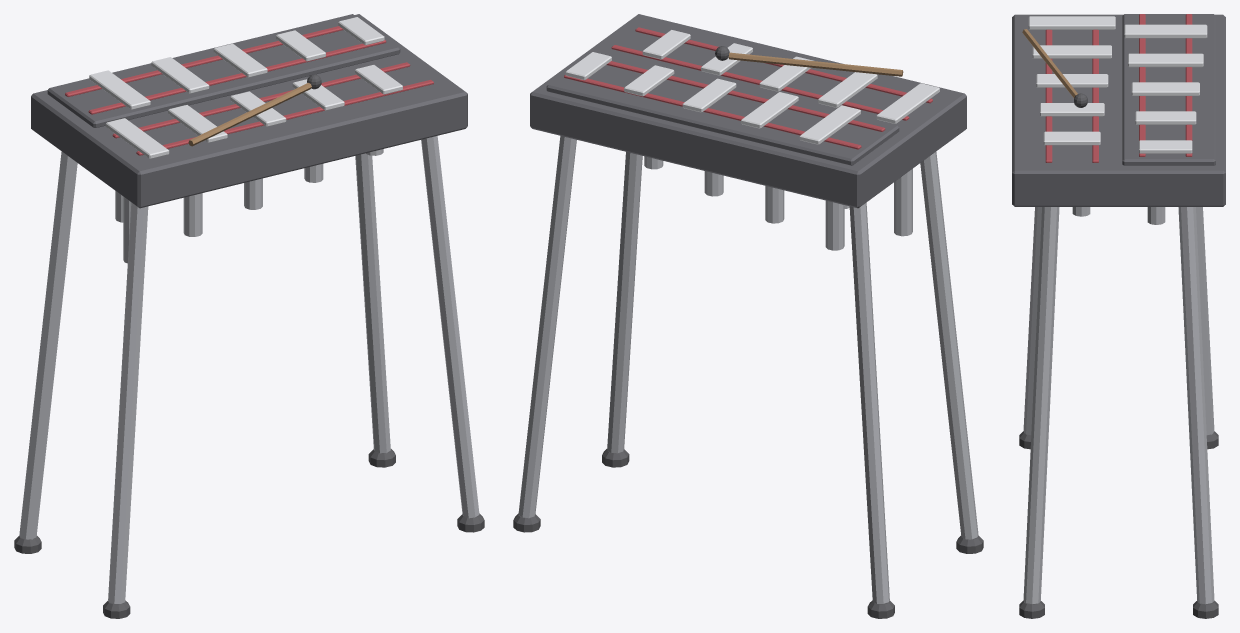
Rendered from orchestra-and-band-instruments-glockenspiel-ed5f5170__39299.glb.
3 renders of one model, left to right at view 1: azimuth 30°, elevation 25°; view 2: azimuth 150°, elevation 25°; view 3: azimuth 270°, elevation 25°, orthographic. The views are drawn at different scales.
Visible parts, largest first — view 1: glockenspiel; view 2: glockenspiel; view 3: glockenspiel.
Part boxes in pixels (x1,y1,x2,y2): glockenspiel: [14, 14, 484, 618]; glockenspiel: [513, 14, 983, 618]; glockenspiel: [1012, 14, 1225, 618].
Size of the model in its own units: 0.64 by 0.7535 by 0.32.
